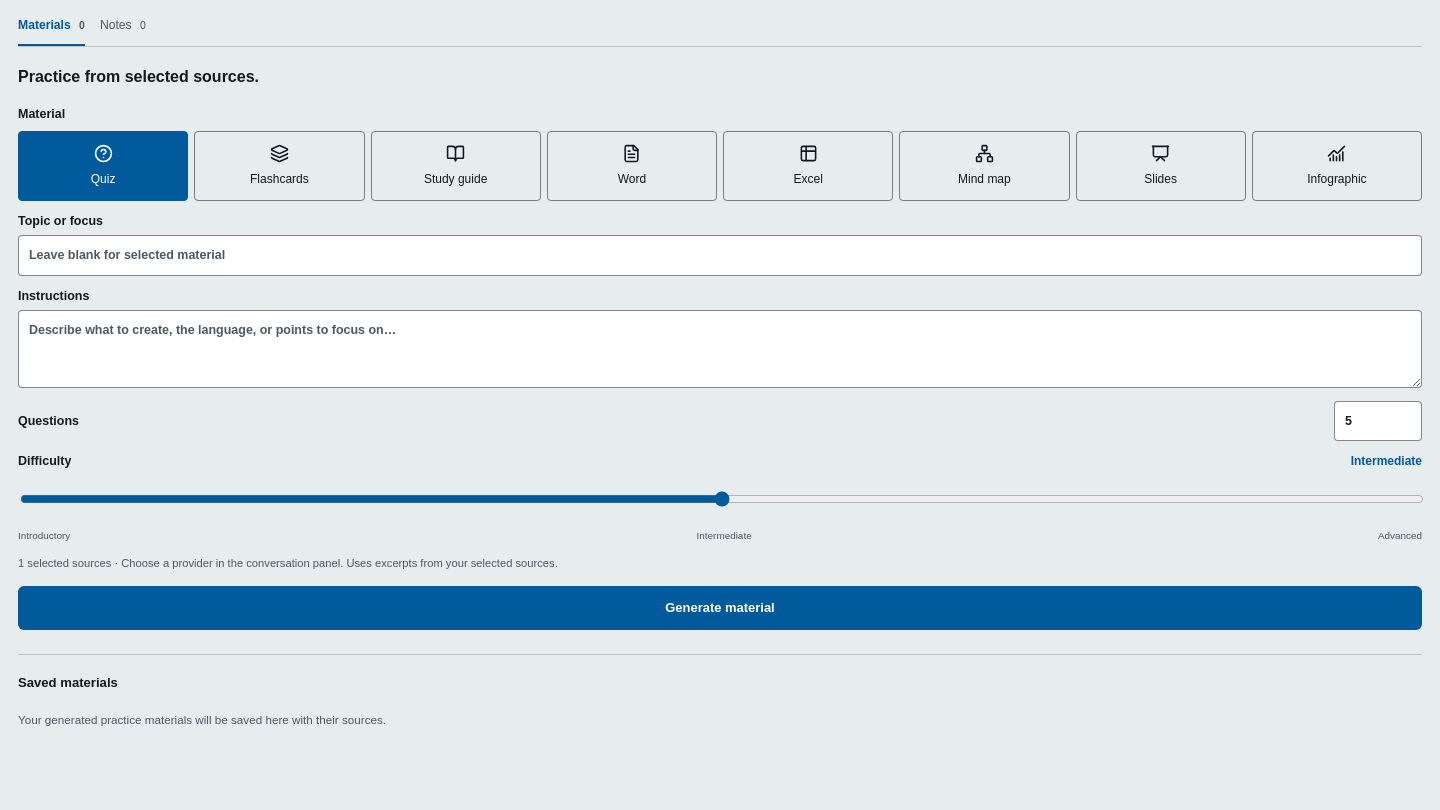
Study safety and controls › submits Study guide and the selected slider difficulty only on generation
The image size is (1440, 810).
Click the button "Study guide". click: (456, 166)
box: [370,131,541,201]
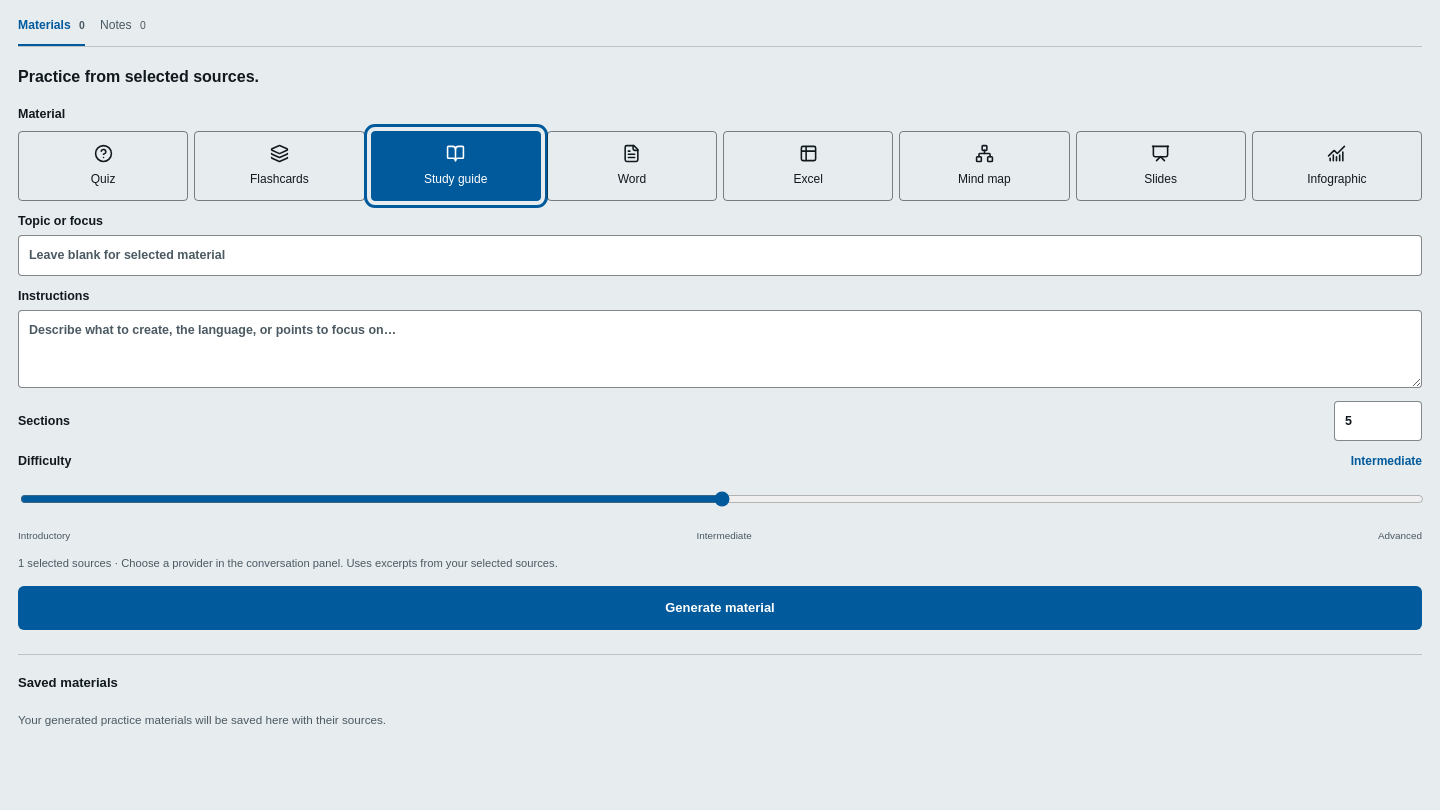
Set the slider labelled "Difficulty" to "2". click: (1416, 499)
box: [20,477,1424,521]
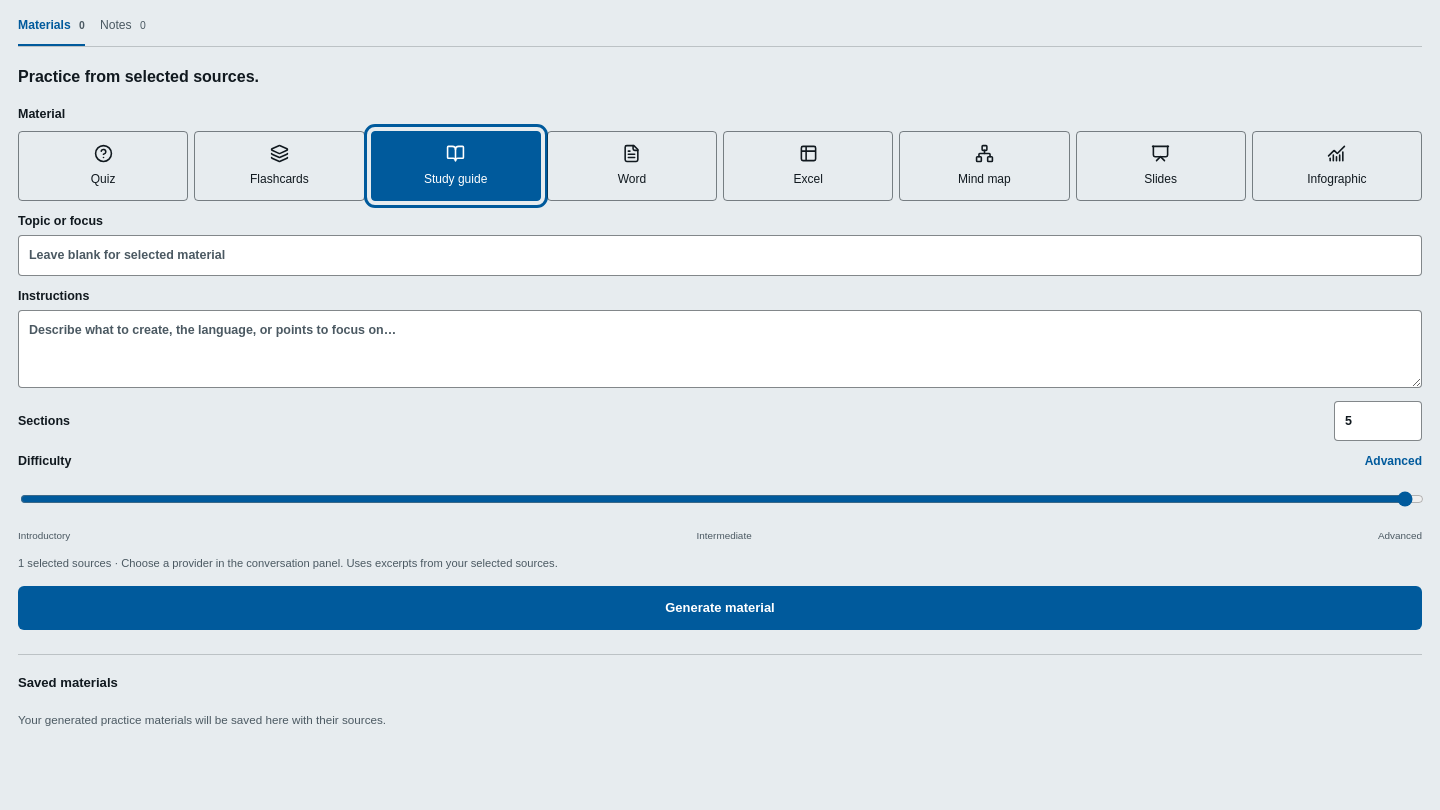
Check: the slider labelled "Difficulty" has attribute aria-valuetext="Advanced", box [20,477,1424,521]
Check: the button "Study guide" is pressed, box [370,131,541,201]
Click the button "Generate material". click: (720, 608)
box: [18,586,1422,630]
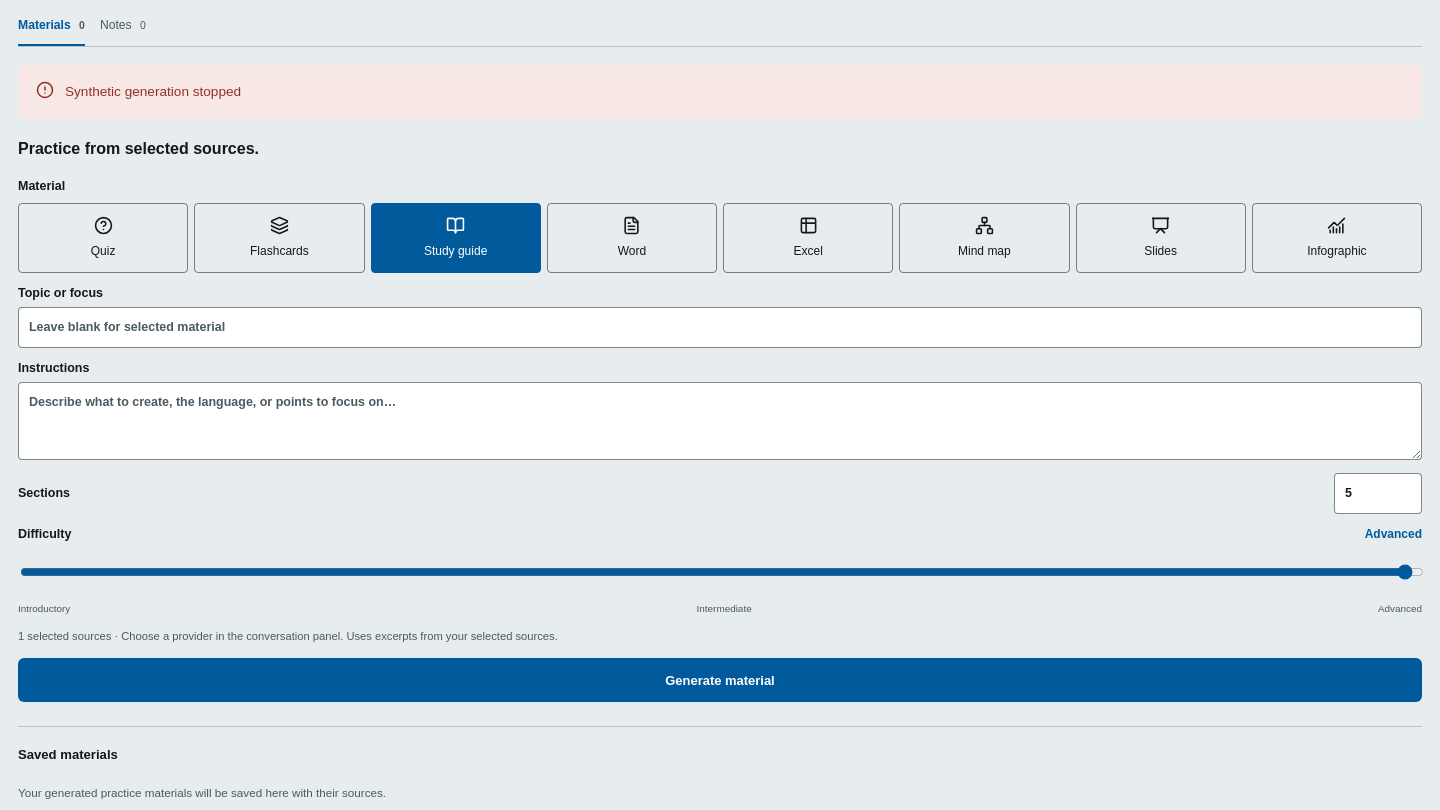
Check: the text "Synthetic generation stopped" is shown, box [65,81,241,103]
